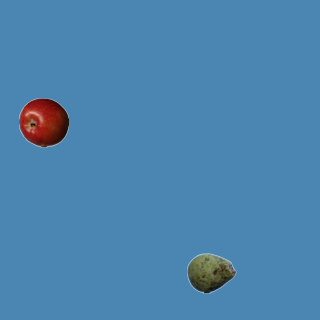Apple Braeburn: (18, 97, 68, 147)
Pear Stone: (186, 248, 236, 298)
